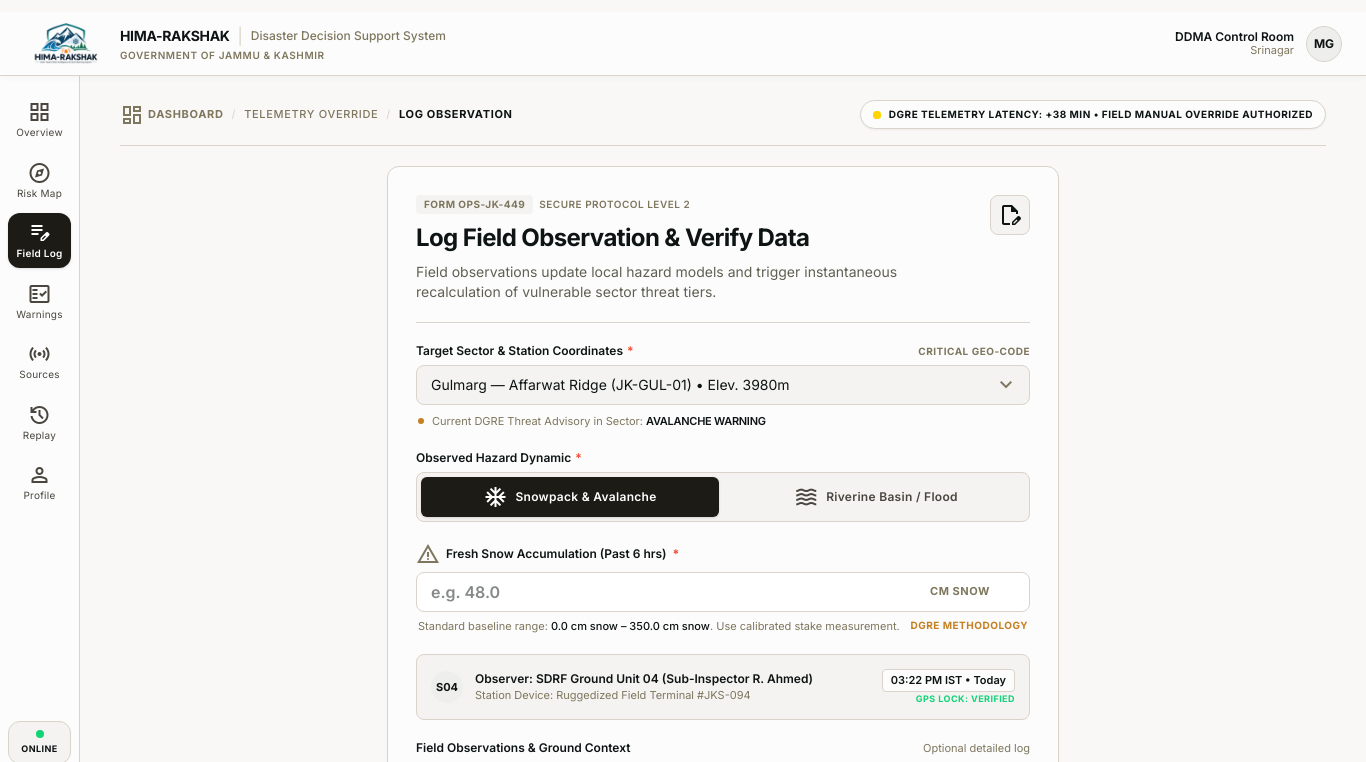
Scenario: FieldObservationPage › rejects out-of-range values
Click the radio button labelled "Riverine Basin / Flood" at (876, 496), box [794,482,958,510]
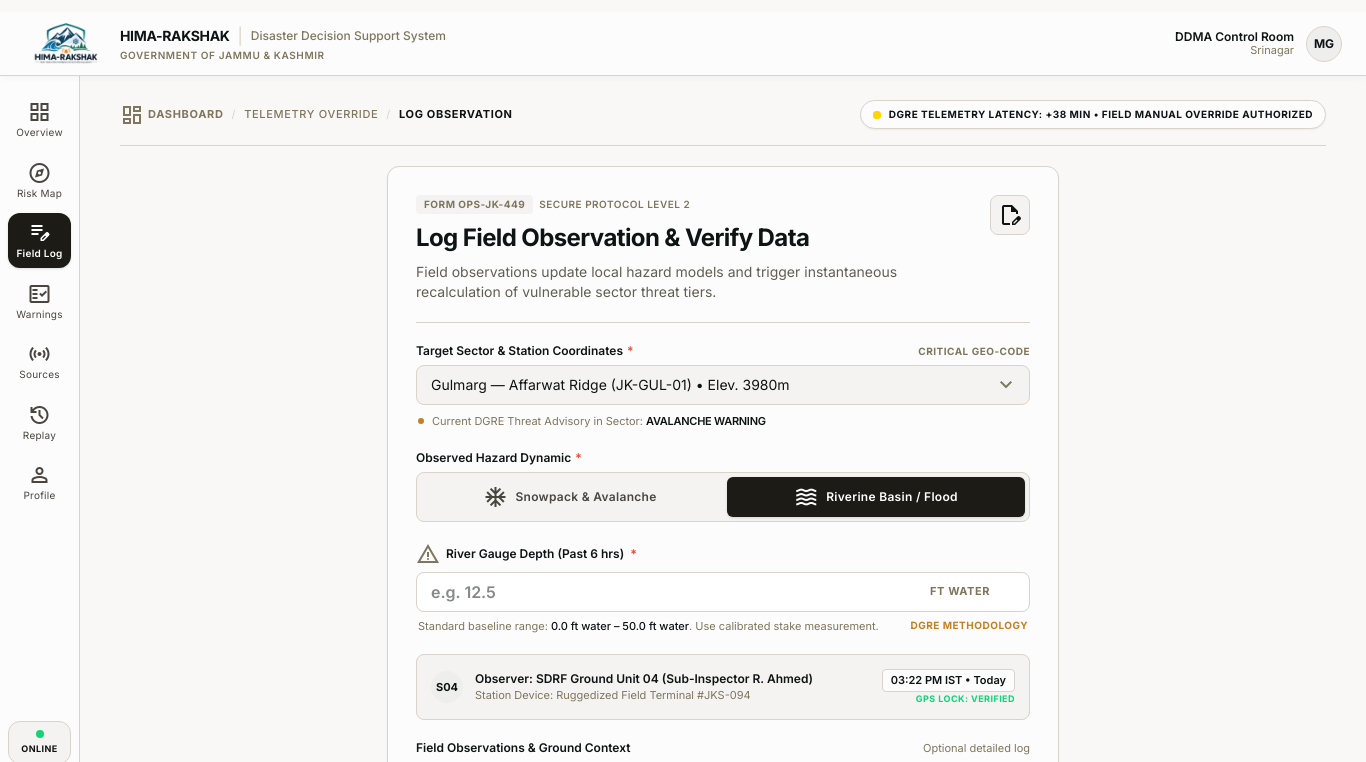
Type "60.0" into the field labelled "River Gauge Depth (Past 6 hrs) *" at (723, 592), box [416,572,1030,612]
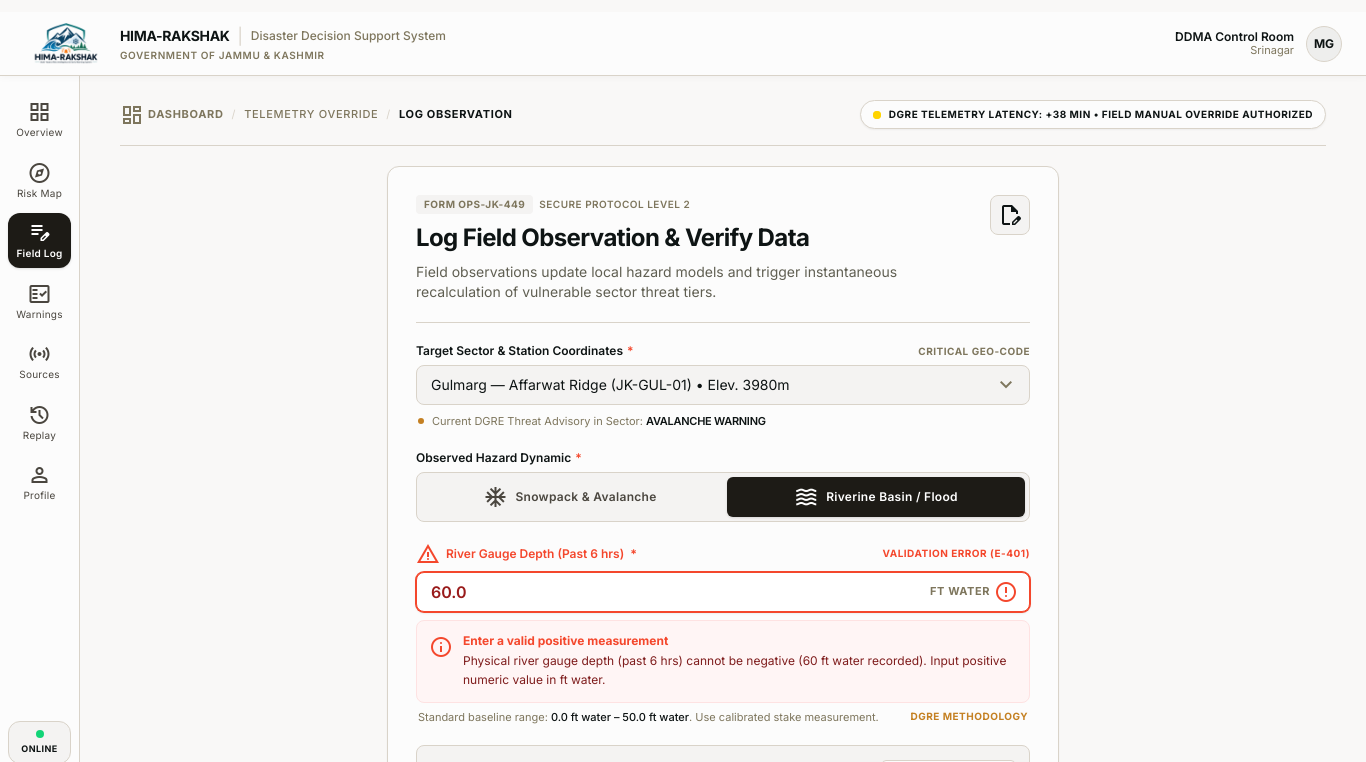
Check: the text "Enter a valid positive measurement" is shown, box [463,632,668,648]
